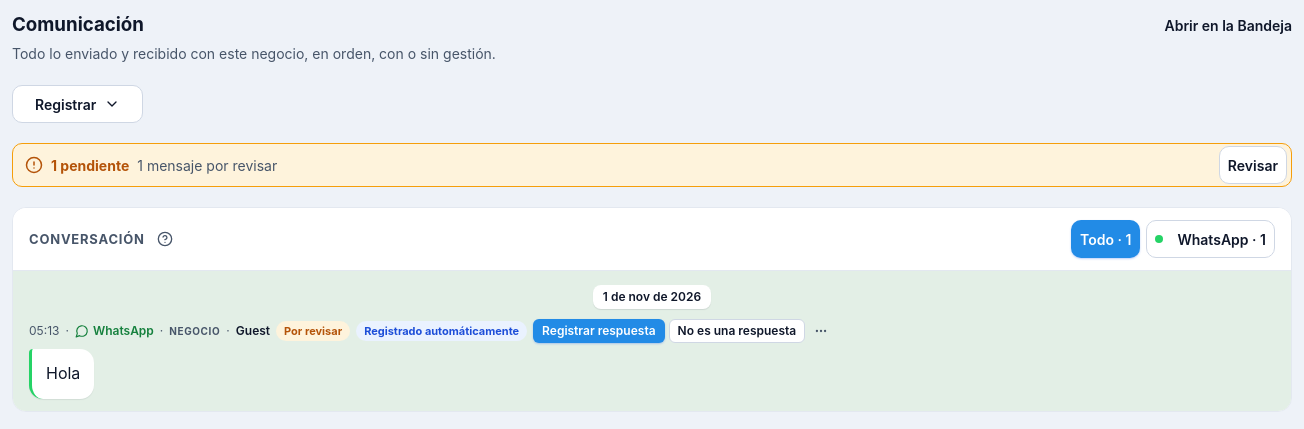
Test: automatic registration voiding › shows an automatic badge and void action for owned inbound registrations
Expected: the text "Registrado automáticamente" is shown, [356,322,527,342]
Click the button named "Más acciones · " at (821, 332), box [809,320,833,344]
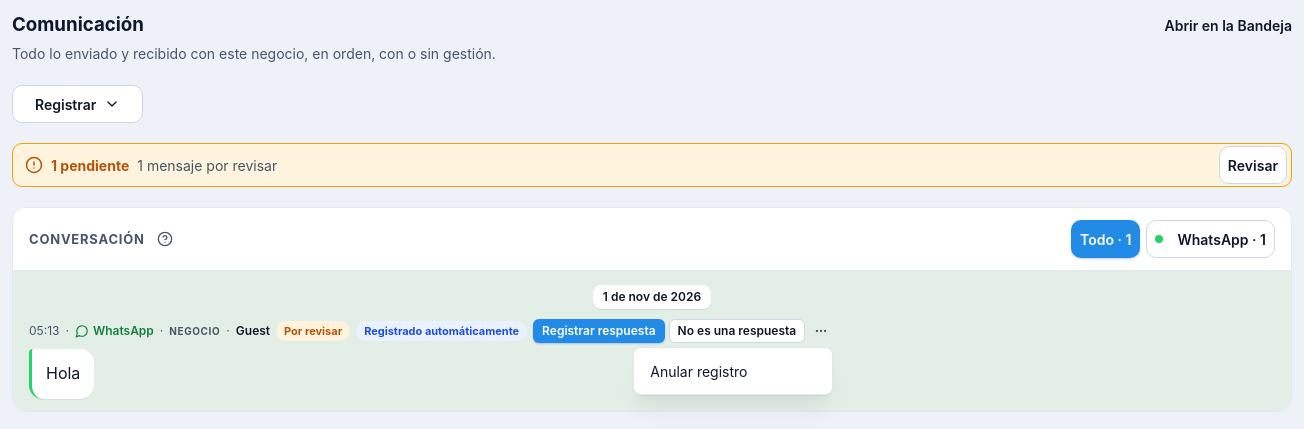
Result: the menu item "Anular registro" is shown at [638,352,828,390]
